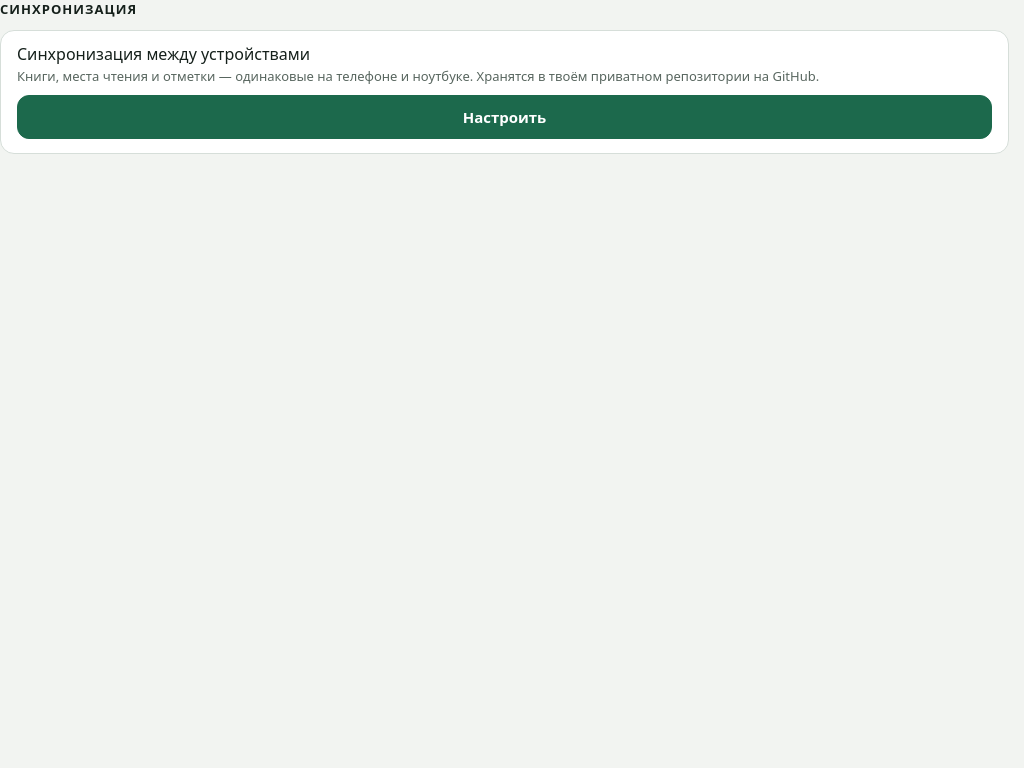
it: SyncSection: выключена › отказ показывается в шторке
Click the button "Настроить" at (504, 117), box x1=17 y1=95 x2=992 y2=139
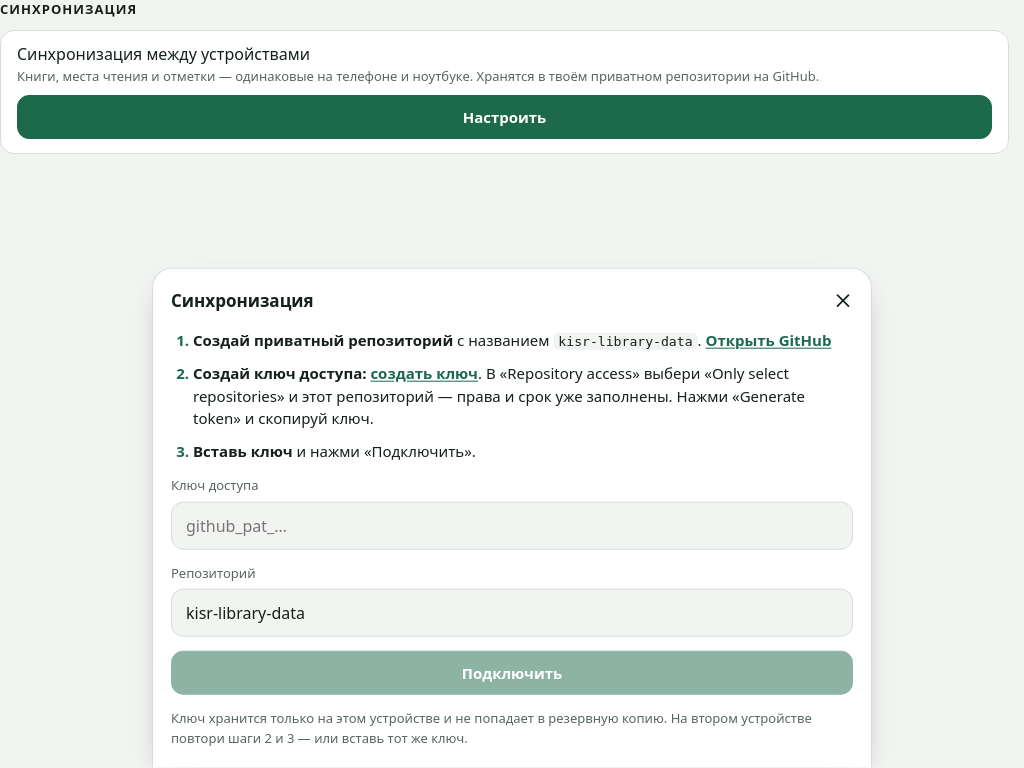
Type "плохой" into the password field labelled "Ключ доступа" at (512, 525), box x1=171 y1=501 x2=853 y2=549
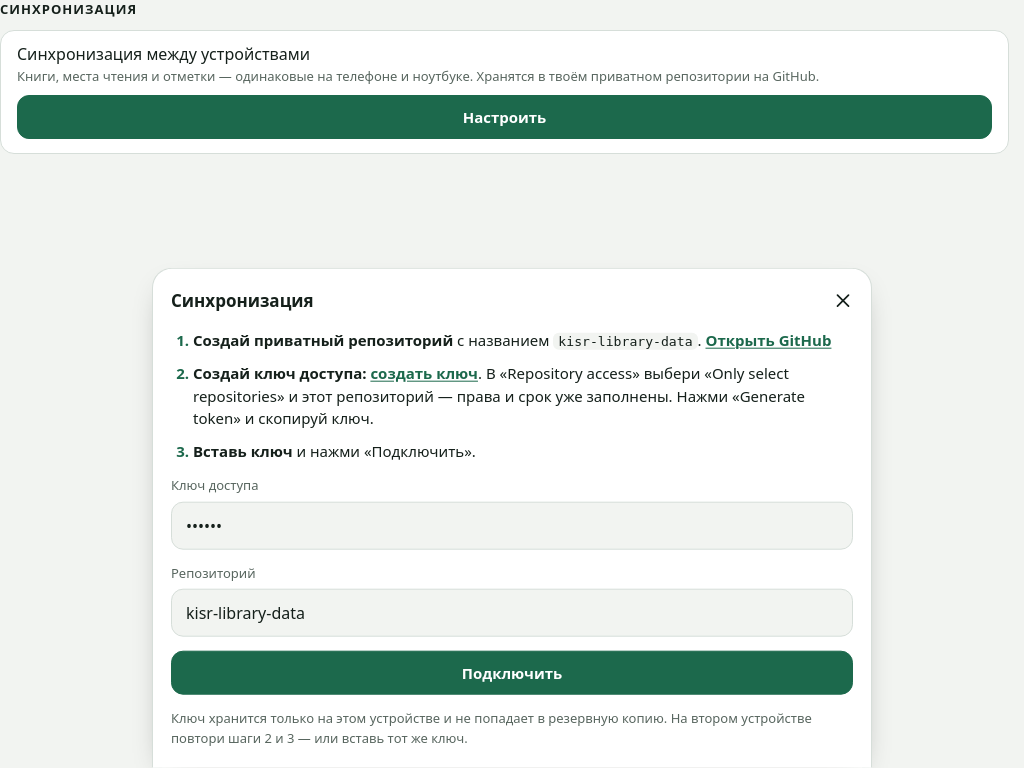
Click the button "Подключить" at (512, 673), box x1=171 y1=651 x2=853 y2=695
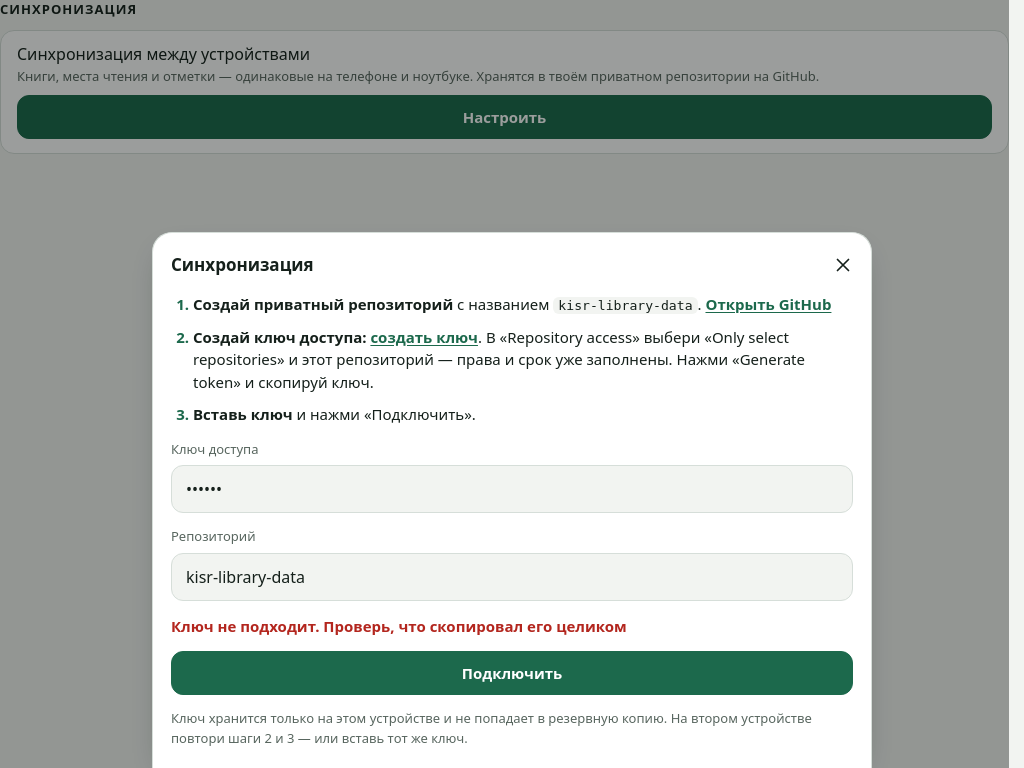
Now the message "Ключ не подходит. Проверь, что скопировал его целиком" is shown, box x1=171 y1=616 x2=627 y2=636
